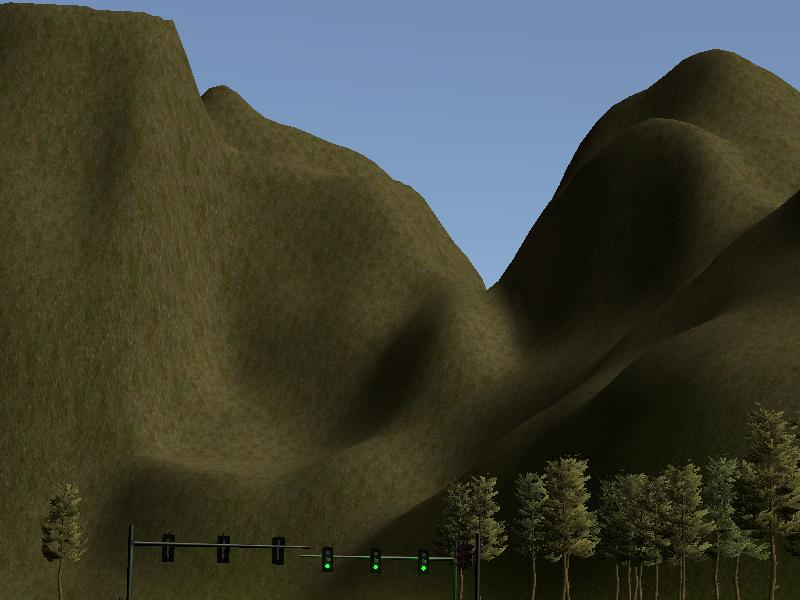Green: (369, 549, 380, 572), (322, 548, 332, 571), (419, 552, 428, 573)
